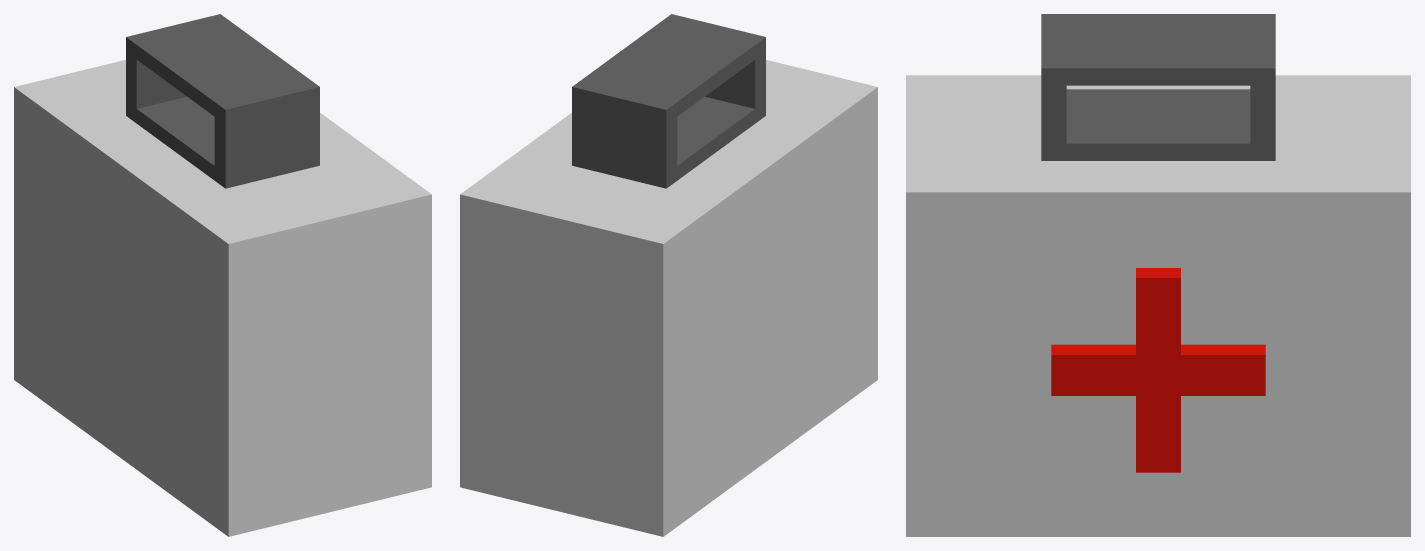
File: medkit.fbx
3 views of the same model, side by side, from view 1: azimuth 30°, elevation 25°; view 2: azimuth 150°, elevation 25°; view 3: azimuth 270°, elevation 25° (orthographic). The views are drawn at different scales.
Visible parts, largest first — view 1: Cube; view 2: Cube; view 3: Cube, Cube.002.
Part boxes in pixels (x1,y1,x2,y2): Cube: (14, 14, 431, 536); Cube: (460, 14, 877, 536); Cube: (906, 14, 1410, 536); Cube.002: (1051, 268, 1265, 472).
Size of the model in its own units: 158 by 254 by 265.
